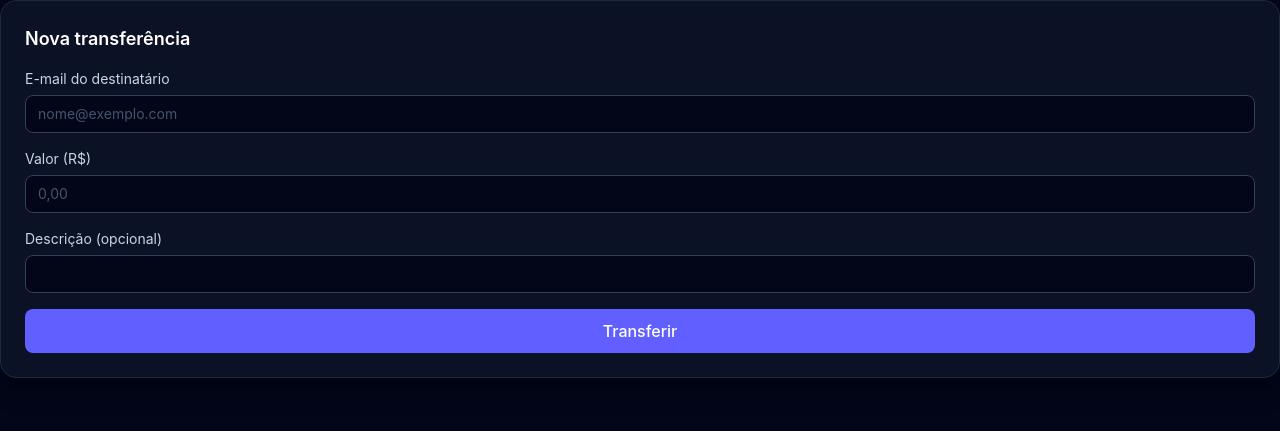
Test case: TransferForm › shows a friendly message for business errors
Type "bob@example.com" into the field labelled "E-mail do destinatário" at [640, 114], box x1=25 y1=95 x2=1255 y2=133
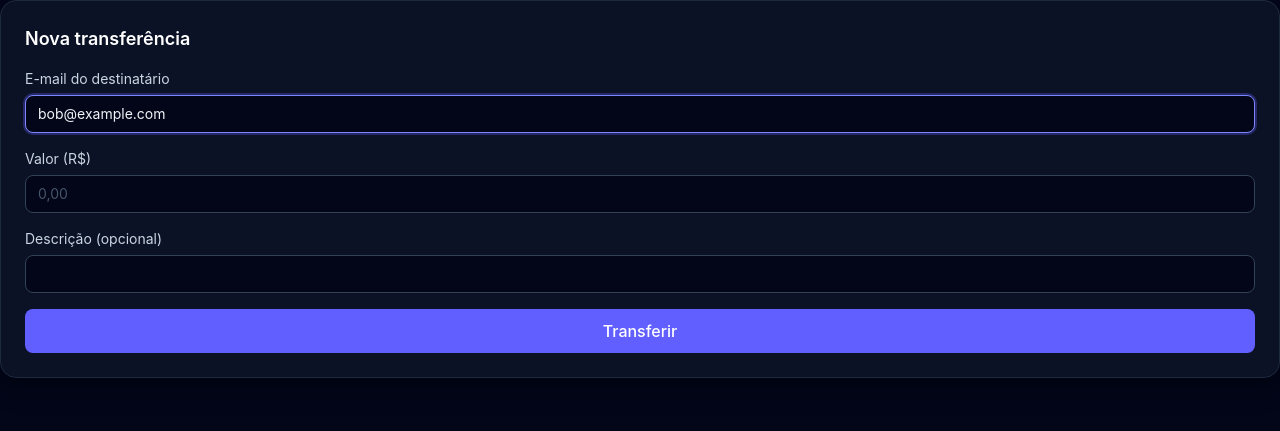
Type "10" into the field labelled "Valor (R$)" at [640, 194], box x1=25 y1=175 x2=1255 y2=213
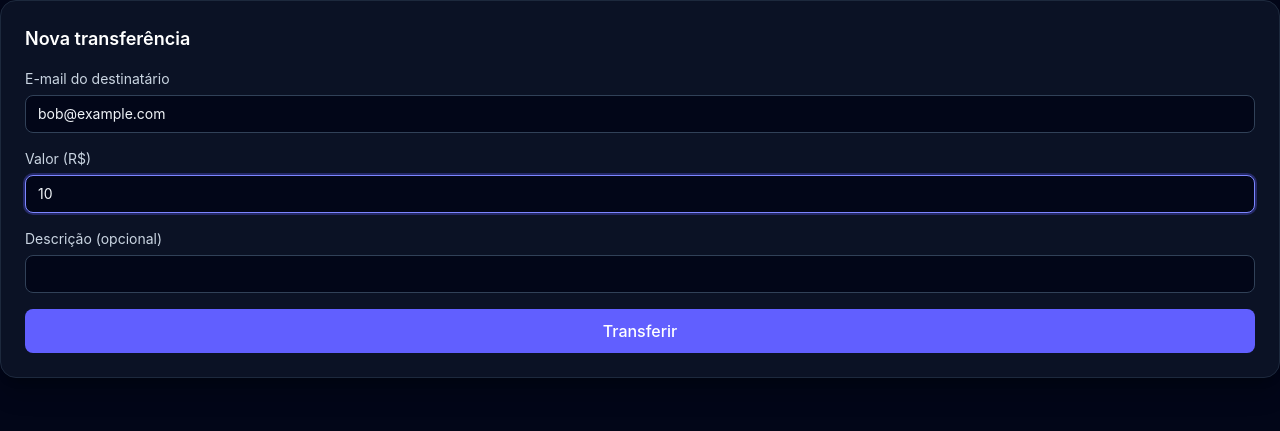
Click the button "Transferir" at [640, 331], box x1=25 y1=309 x2=1255 y2=353
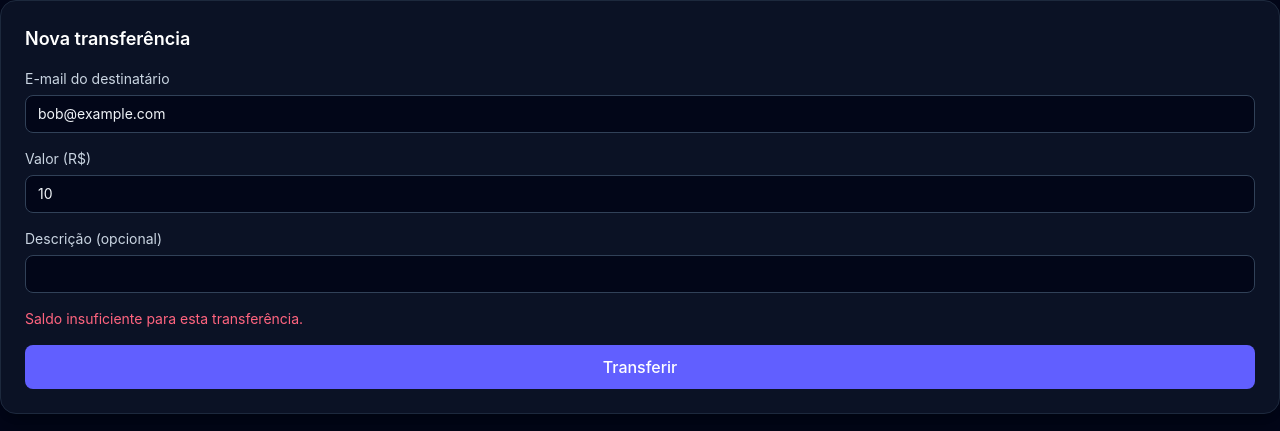
Now the message shows "Saldo insuficiente", box x1=25 y1=310 x2=303 y2=327
